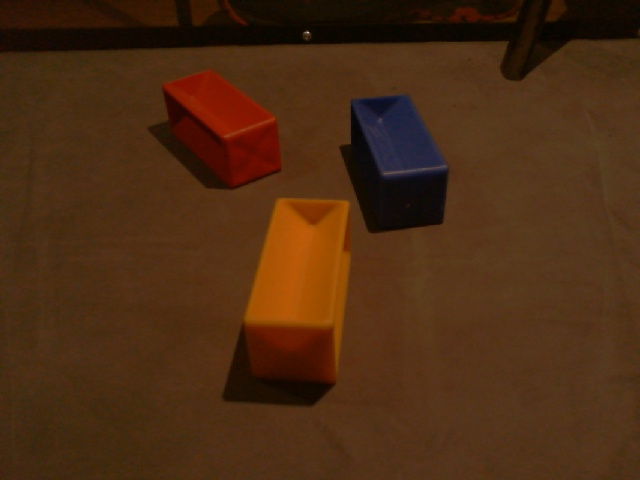BlueSample: (347, 93, 452, 230)
RedSample: (161, 68, 283, 189)
YellowSample: (241, 196, 355, 391)
